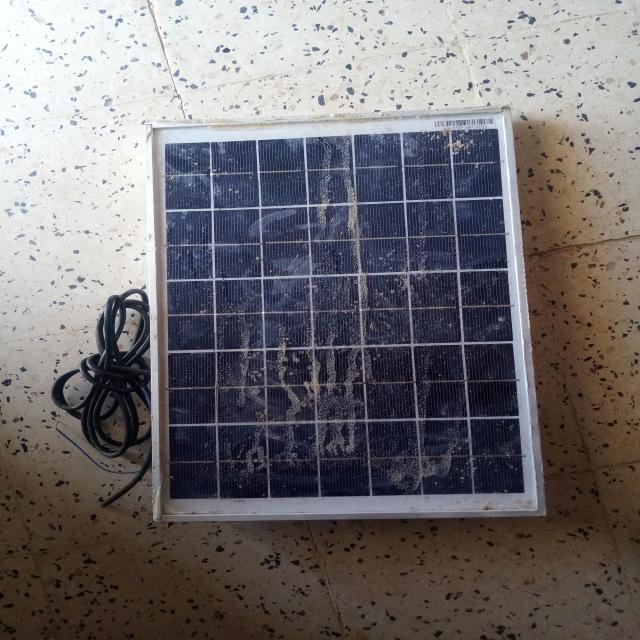faulty: (148, 108, 542, 517)
